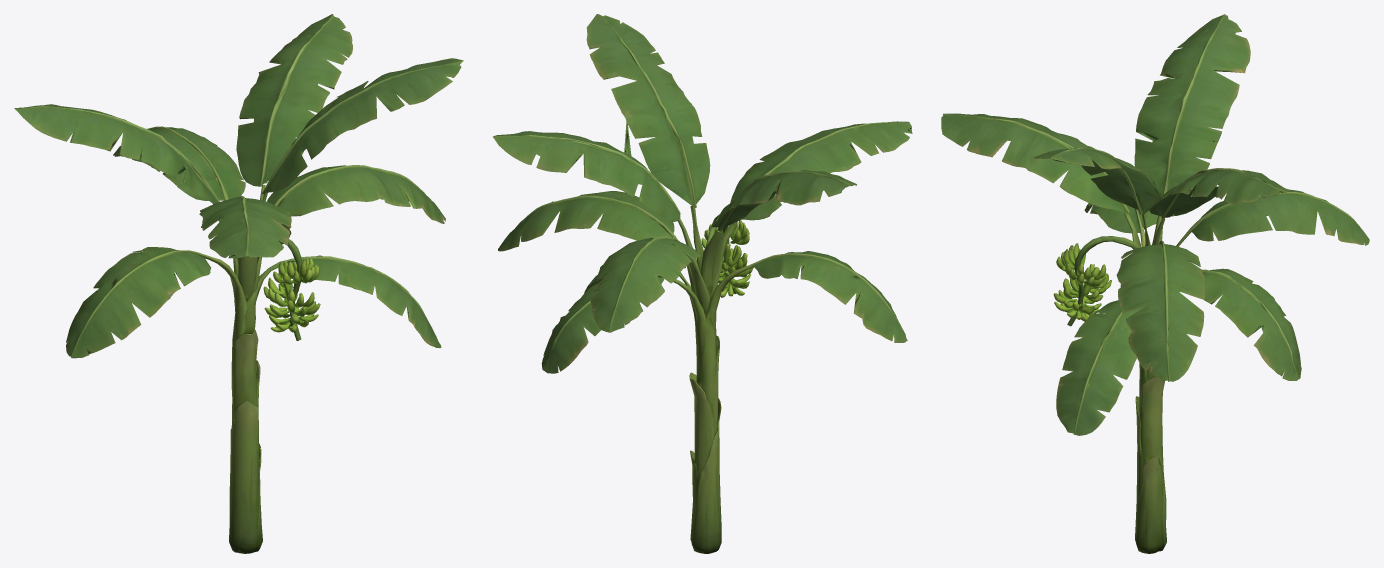
The model's file is banana_b.glb.
The picture shows the model from 3 angles, left to right: view 1: azimuth 30°, elevation 25°; view 2: azimuth 150°, elevation 25°; view 3: azimuth 270°, elevation 25°; orthographic projection. The views are drawn at different scales.
Parts seen in each view (by area): view 1: geometry_0; view 2: geometry_0; view 3: geometry_0.
Part boxes in pixels (left/top/right/bottom): geometry_0: left=14, top=14, right=463, bottom=553; geometry_0: left=493, top=14, right=912, bottom=553; geometry_0: left=941, top=14, right=1369, bottom=553.
Size of the model in its own units: 0.8262 by 0.9531 by 0.79.
Materials: 1 (1 with a texture image).
